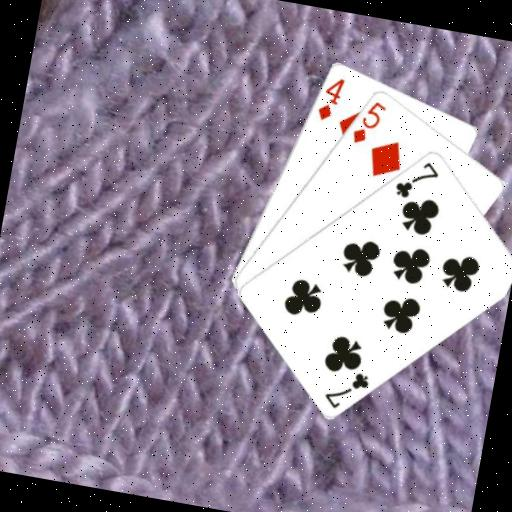4D: (312, 71, 347, 124)
5D: (348, 94, 389, 148)
7C: (389, 153, 442, 205), (320, 363, 373, 414)
